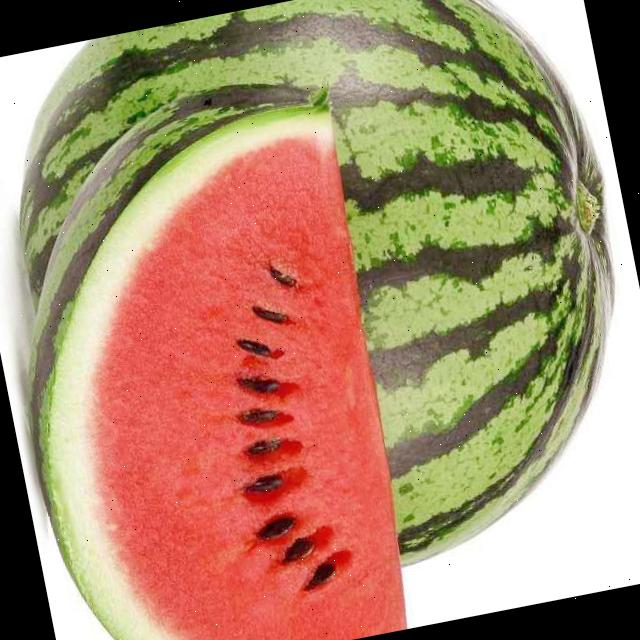watermelon: (0, 0, 640, 629), (0, 60, 433, 640)
